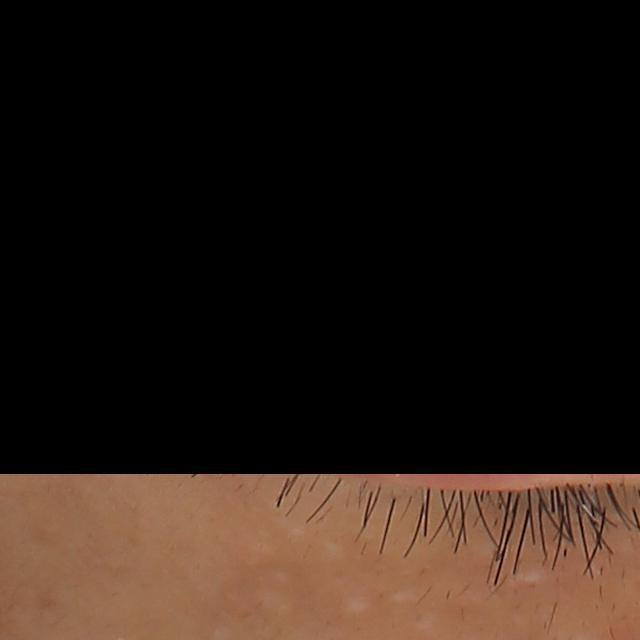hypertrophic_scar: (506, 562, 561, 588), (249, 589, 293, 619), (335, 592, 378, 621), (282, 523, 313, 547), (384, 588, 423, 607), (407, 613, 441, 633), (322, 538, 348, 557)
